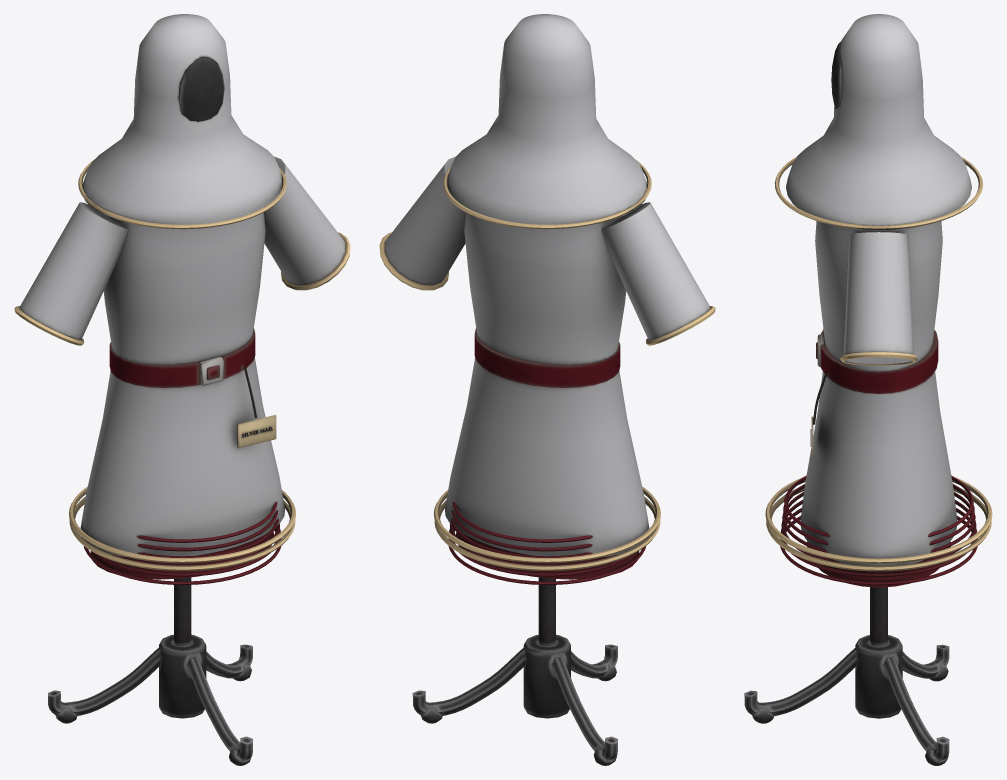
Rendered from MailHauberkStand.fbx.
The picture shows the model from 3 angles, left to right: view 1: azimuth 30°, elevation 25°; view 2: azimuth 150°, elevation 25°; view 3: azimuth 270°, elevation 25°; orthographic projection.
Visible parts, largest first — view 1: MailHauberkStand; view 2: MailHauberkStand; view 3: MailHauberkStand.
Part boxes in pixels (bbox=[...]): MailHauberkStand: bbox=[14, 14, 350, 765]; MailHauberkStand: bbox=[379, 14, 715, 765]; MailHauberkStand: bbox=[744, 14, 992, 765].
Size of the model in its own units: 253 by 524 by 168.
